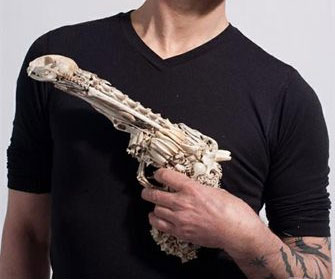pistol: (21, 50, 241, 273)
